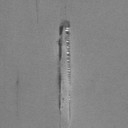slag inclusion: (57, 19, 72, 86), (57, 66, 63, 112), (15, 79, 19, 85)
